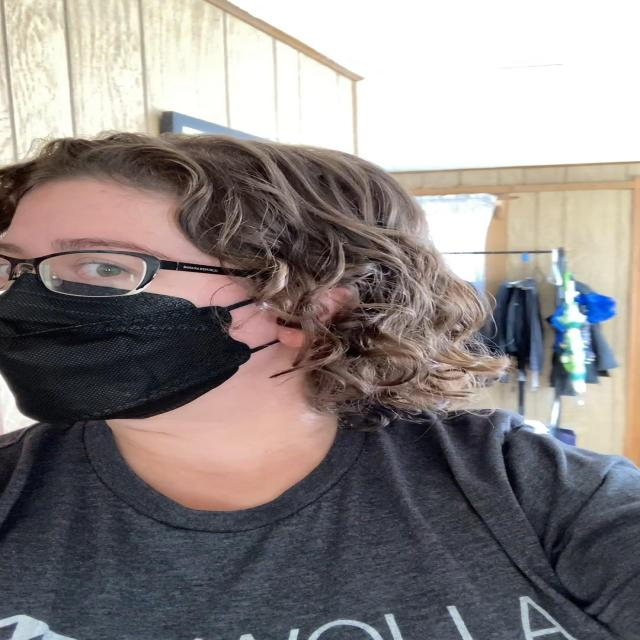no-helmet: (0, 175, 278, 421)
